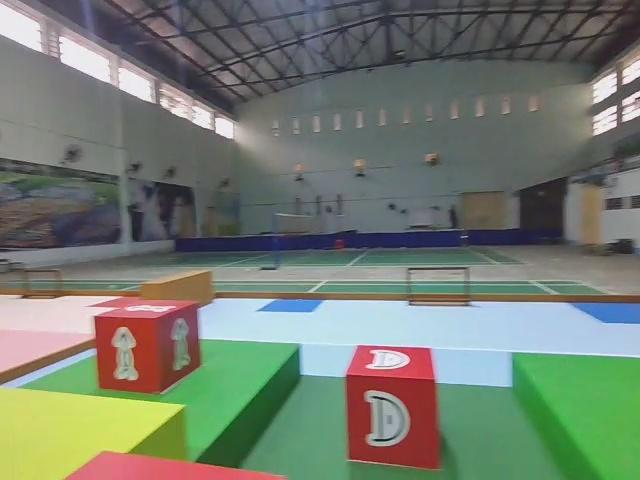R2 Real: (346, 342, 439, 472), (93, 301, 200, 394)
